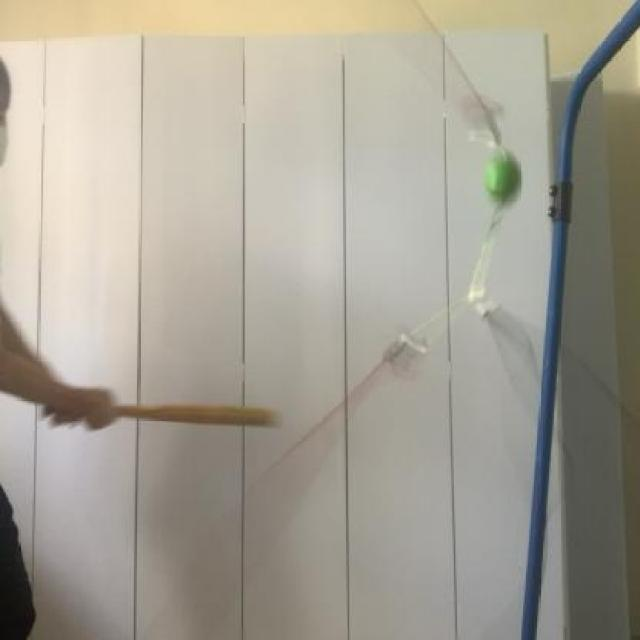baseball: (469, 141, 531, 207)
